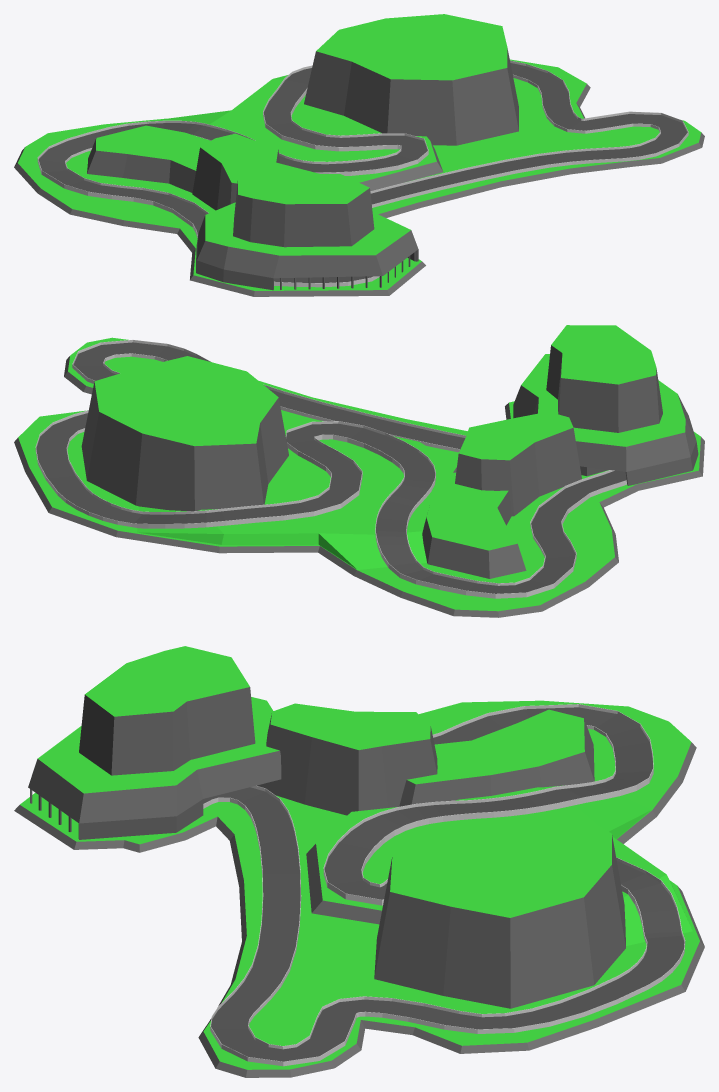
The model's file is track_blockout_01.glb.
3 renders of one model, top to bottom at view 1: azimuth 30°, elevation 25°; view 2: azimuth 150°, elevation 25°; view 3: azimuth 270°, elevation 25°, orthographic. The views are drawn at different scales.
Visible parts, largest first — view 1: island; view 2: island; view 3: island.
Part boxes in pixels (x1=…): island: x1=14, y1=14, x2=704, y2=296; island: x1=14, y1=325, x2=704, y2=617; island: x1=14, y1=646, x2=704, y2=1077.
Size of the model in its own units: 483 by 66.92 by 378.
